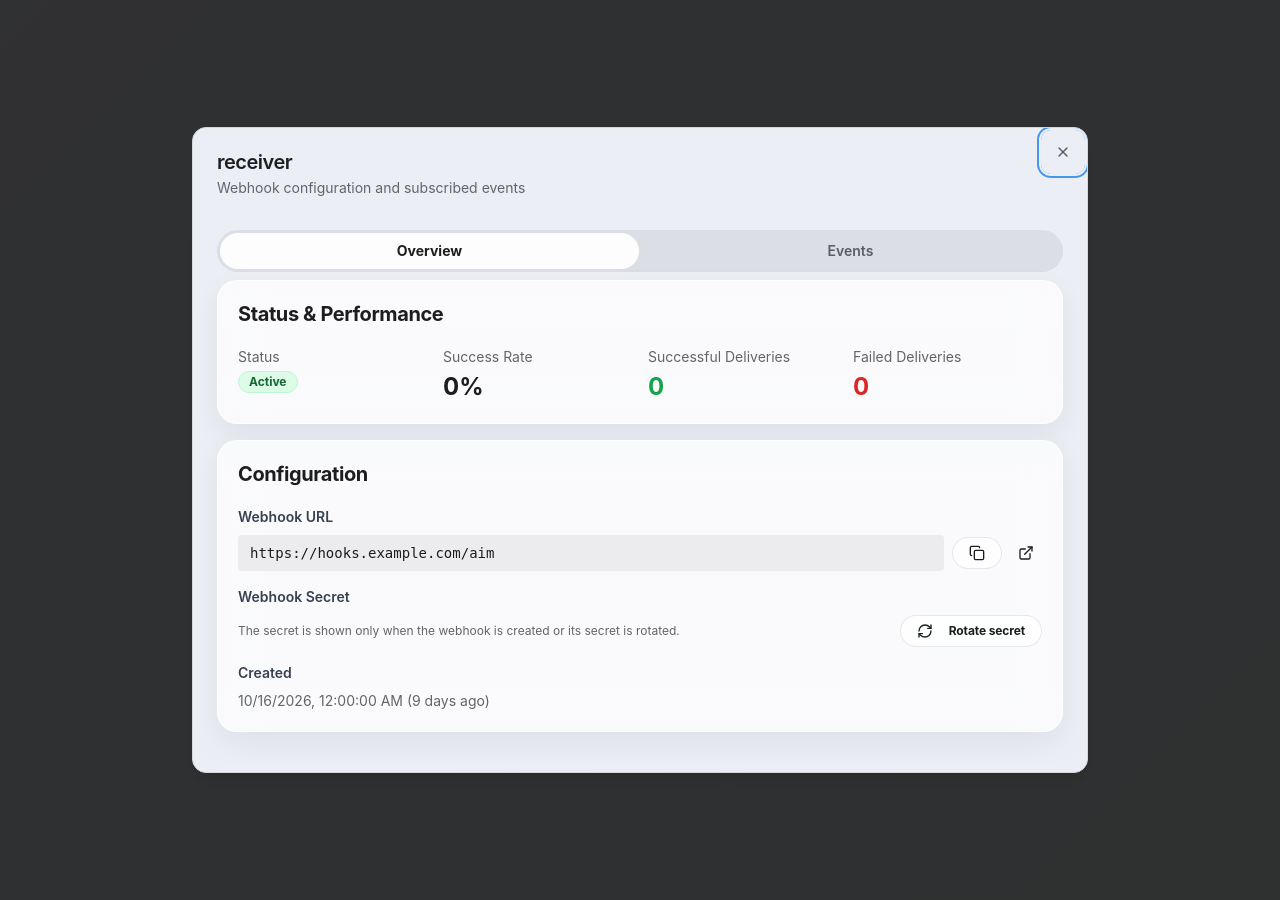
Test case: webhook detail modal: secret › cancelling the confirmation rotates nothing
The width and height of the screenshot is (1280, 900).
Expected: the text "https://hooks.example.com/aim" is shown, left=238, top=535, right=944, bottom=571
Click the button "Rotate secret": click(971, 631) left=900, top=615, right=1042, bottom=647
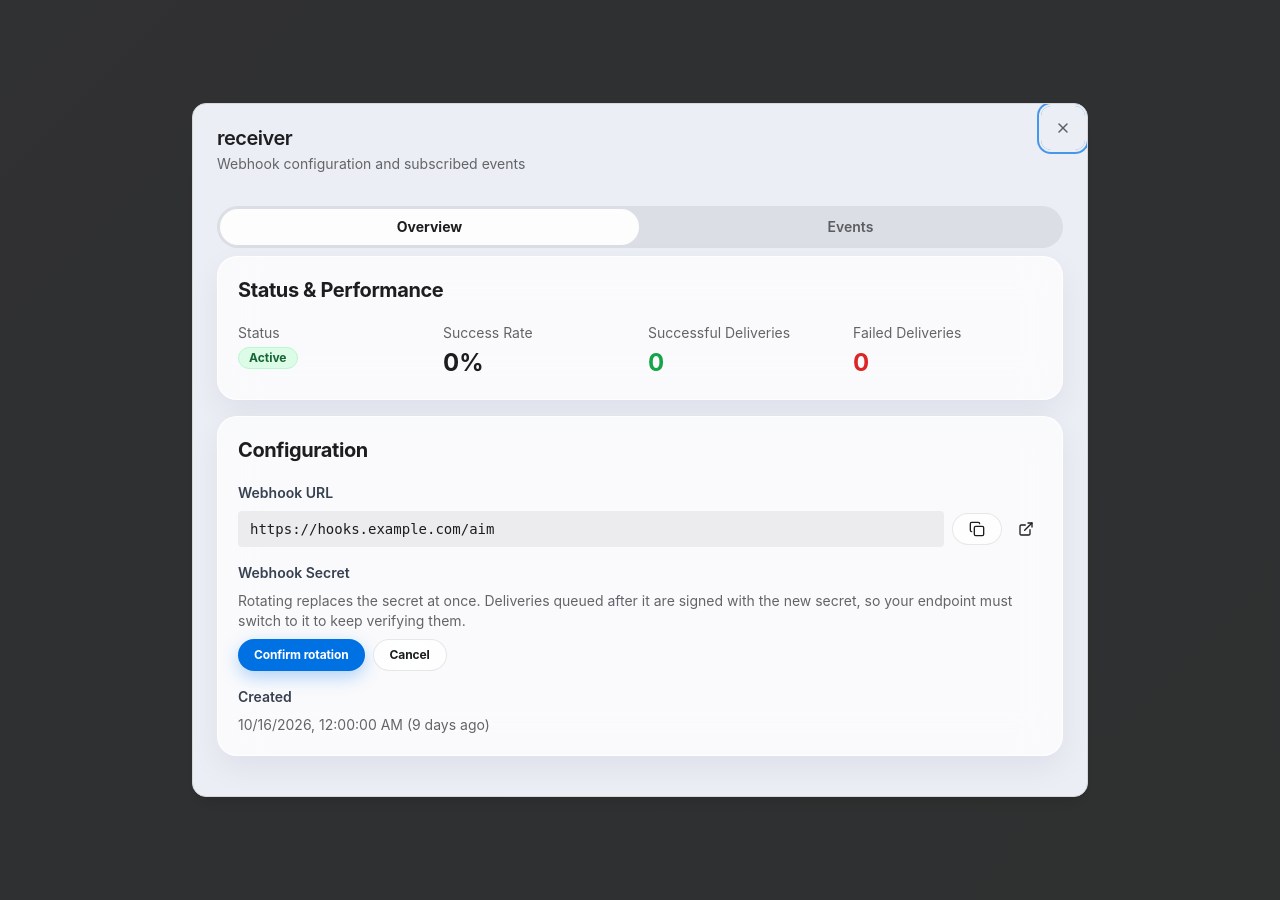
Click the button "Cancel": click(410, 655) left=372, top=639, right=447, bottom=671
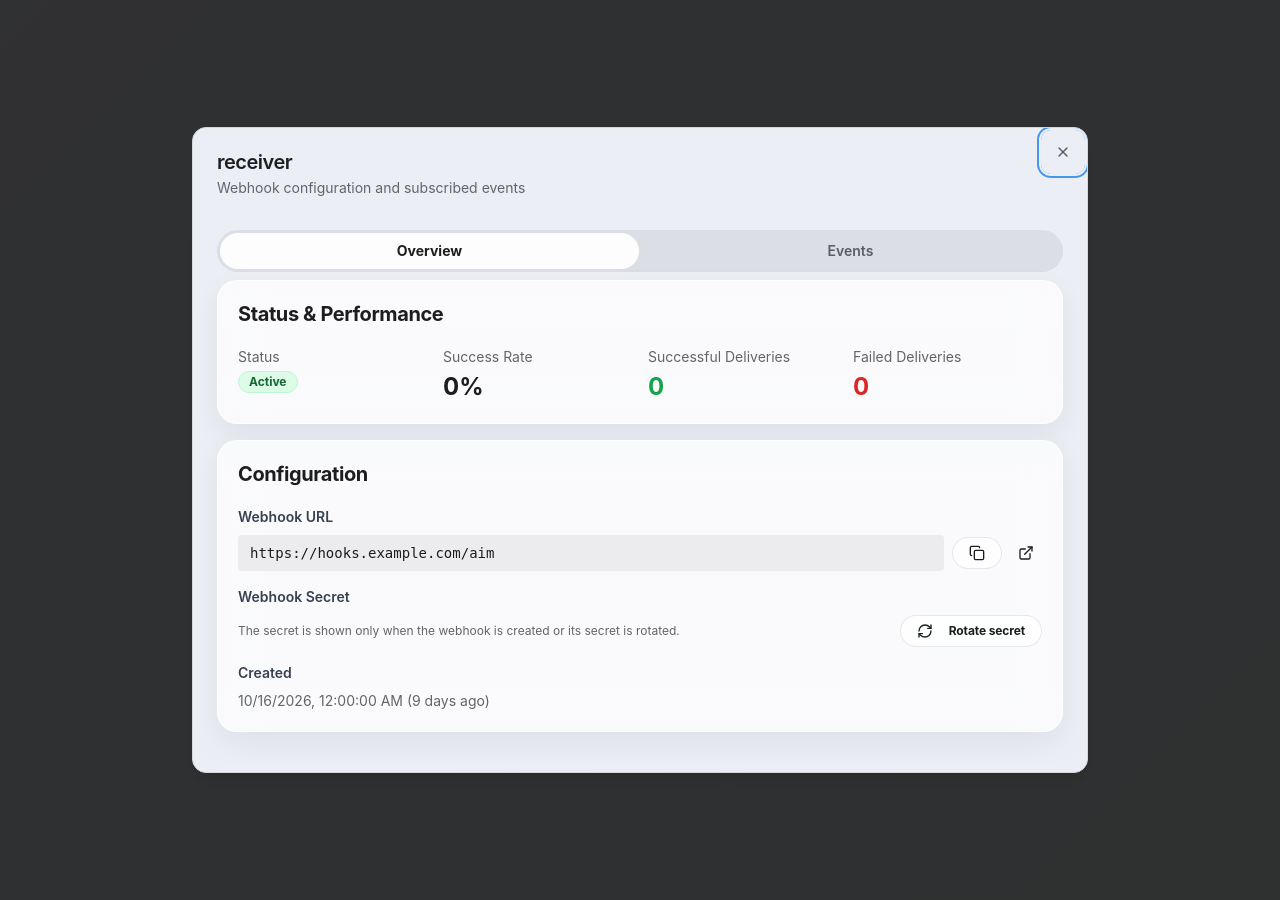
Now the button "Rotate secret" is shown, box left=900, top=615, right=1042, bottom=647
